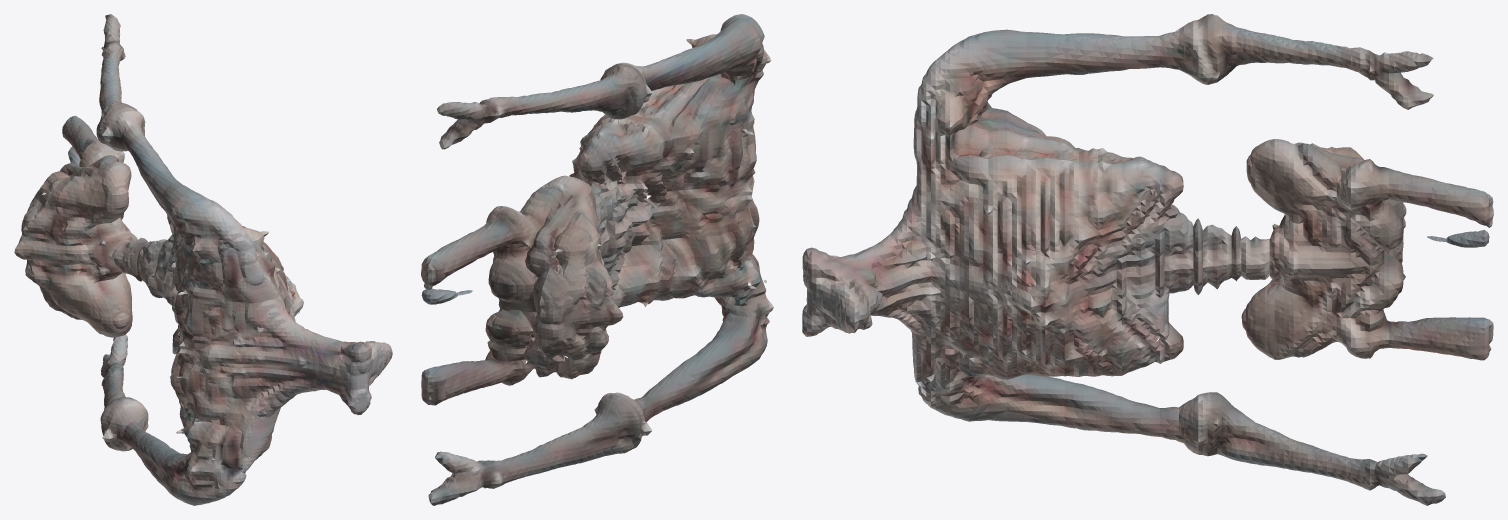
3 renders of one model, left to right at view 1: azimuth 30°, elevation 25°; view 2: azimuth 150°, elevation 25°; view 3: azimuth 270°, elevation 25°, orthographic. The views are drawn at different scales.
Visible parts, largest first — view 1: world; view 2: world; view 3: world.
Boxes of the visible parts, x1,y1,x2,y2 form: world: (14,14,392,505); world: (421,14,773,505); world: (802,14,1493,505).
Bounding box in the file's own units: 0.3822 × 0.7072 × 0.985.
